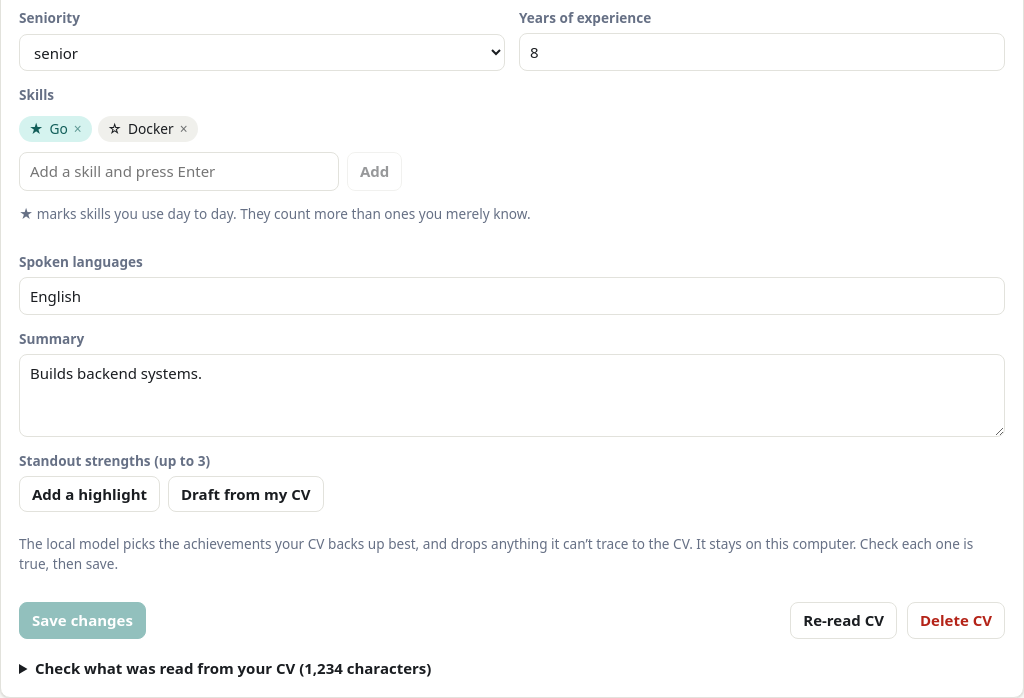
Scenario: Profile page: highlights › drafts bullets into the form without saving them
(page scrolled)
Click the button "Draft from my CV" at (246, 494), box x1=168 y1=476 x2=324 y2=512
(page scrolled)
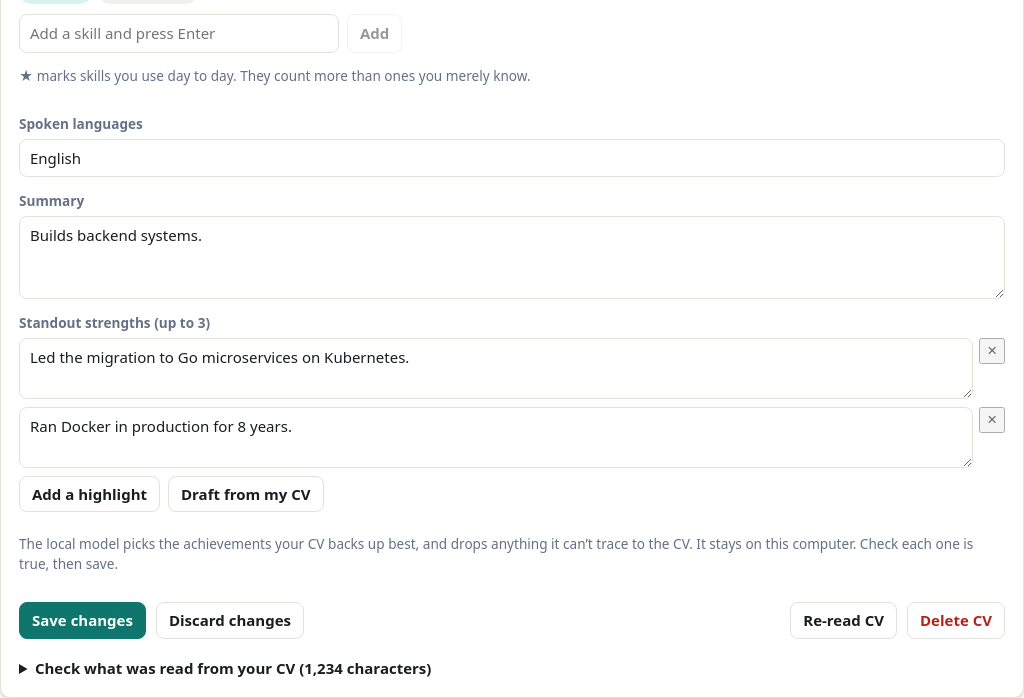
Expected: the text box named "Highlight 1" holds "Led the migration to Go microservices on Kubernetes.", x1=19 y1=338 x2=973 y2=399
Expected: the text box named "Highlight 2" holds "Ran Docker in production for 8 years.", x1=19 y1=407 x2=973 y2=468
Expected: the button "Save changes" is enabled, x1=19 y1=602 x2=146 y2=638
